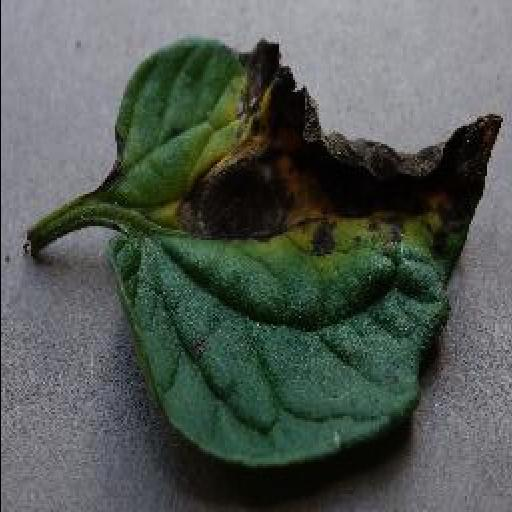Early Blight: (104, 35, 506, 468)
